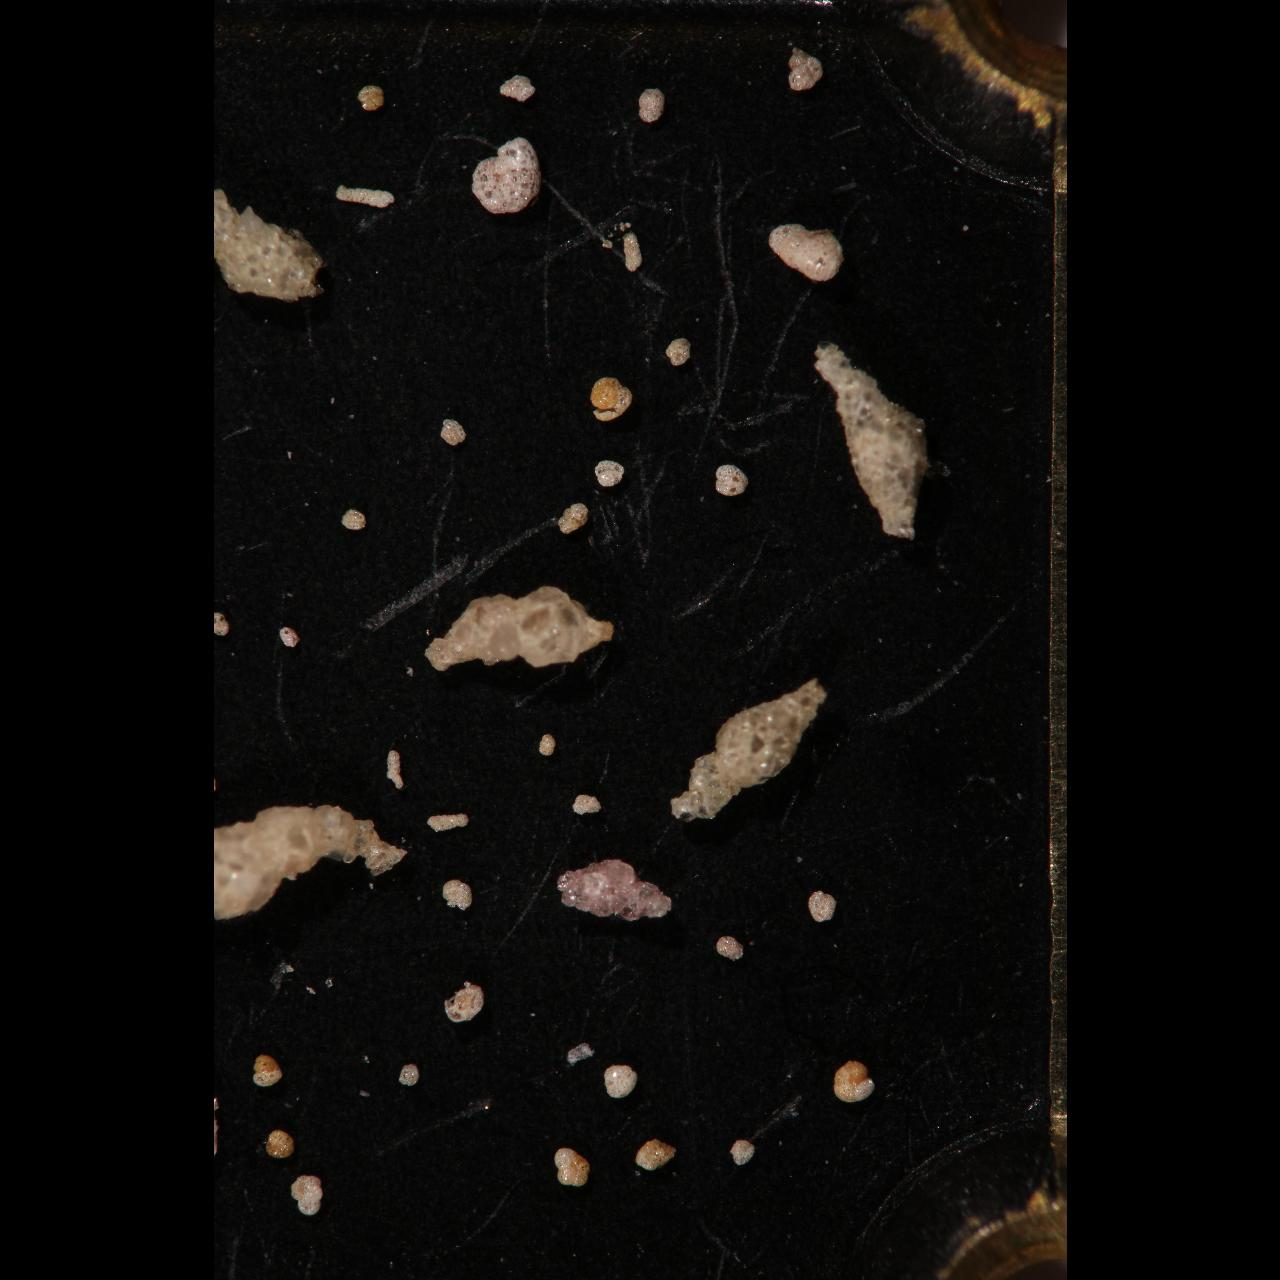agglutinated: (669, 678, 828, 821), (213, 804, 407, 919), (815, 342, 925, 538), (423, 585, 613, 670), (213, 186, 324, 300), (554, 857, 670, 919), (471, 137, 540, 213), (769, 222, 844, 282), (590, 376, 631, 420), (833, 1060, 873, 1103), (444, 980, 483, 1021), (334, 184, 394, 210), (554, 1146, 590, 1190), (788, 49, 822, 93), (636, 1139, 676, 1171), (291, 1175, 321, 1214), (497, 72, 535, 101), (716, 463, 748, 497), (605, 1064, 635, 1098), (251, 1054, 281, 1085), (636, 88, 663, 123), (810, 888, 837, 924), (558, 503, 588, 531), (428, 812, 468, 833), (264, 1129, 293, 1157), (714, 934, 744, 961), (444, 880, 471, 910), (665, 336, 689, 368), (594, 458, 622, 485), (624, 232, 642, 272), (386, 750, 404, 790), (440, 417, 464, 447), (572, 794, 601, 818), (359, 83, 383, 110), (731, 1138, 753, 1165), (341, 509, 365, 531), (279, 624, 300, 647), (538, 731, 556, 758), (400, 1063, 418, 1087), (213, 611, 229, 638)
